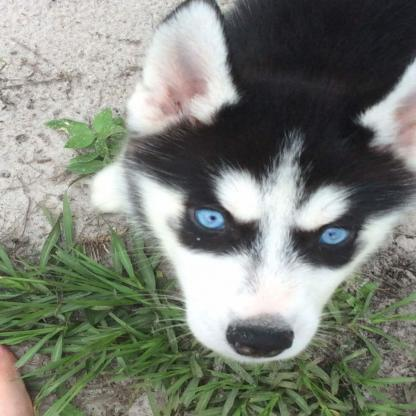husky: (85, 0, 416, 367)
